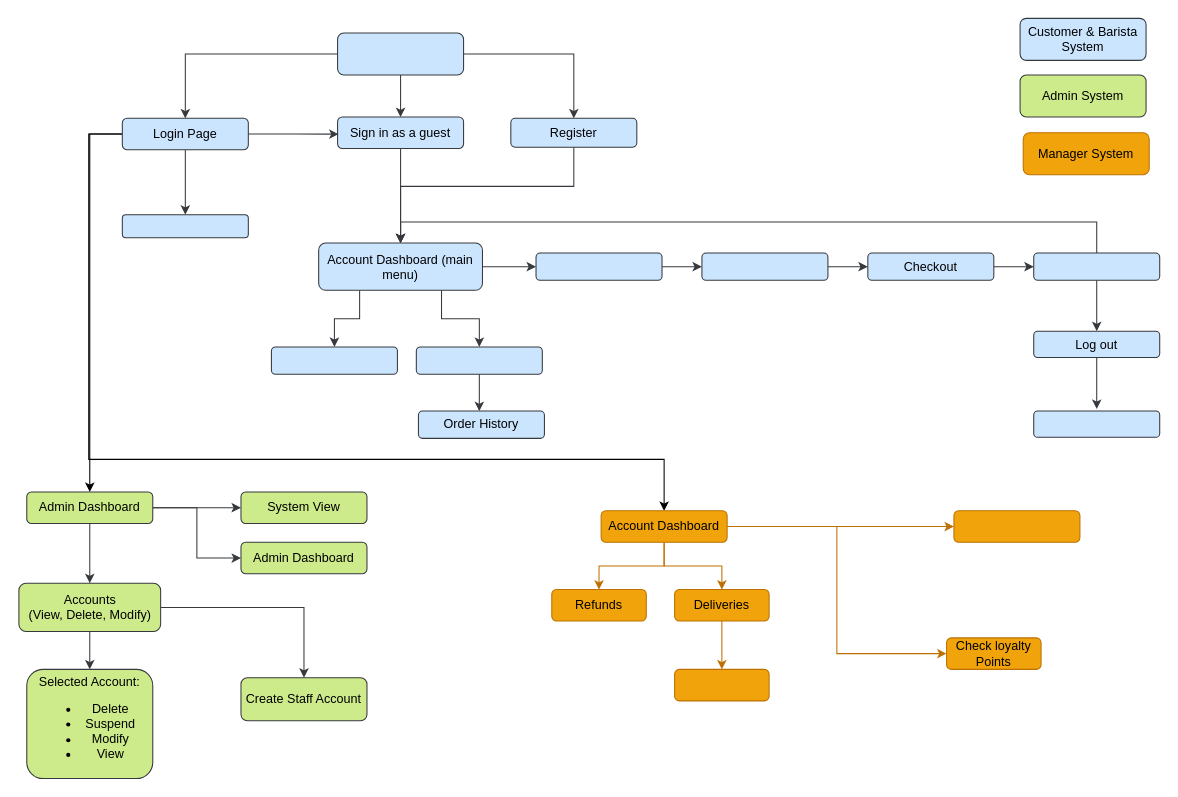
Some shapes in this 1178 by 797 pixel diagram are drawn without their labels. The centre of each missing label's shape, as x and y in pixels:
"Account Settings" goes at point (478, 360).
"Basket" goes at point (764, 266).
"Contact Us" goes at point (333, 360).
"Daily Profits" goes at point (1016, 526).
"Forgot Password" goes at point (184, 226).
"Landing Page" goes at point (400, 53).
"Log out confirmation" goes at point (1096, 423).
"Postage Labels" goes at point (721, 684).
"Shop" goes at point (598, 266).
"Thank you" goes at point (1096, 266).
